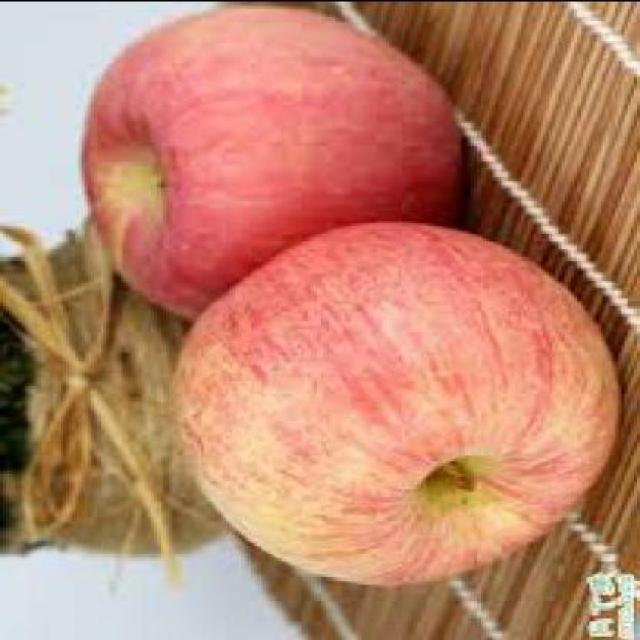BIODEGRADABLE: (172, 223, 617, 585), (85, 6, 463, 325)
